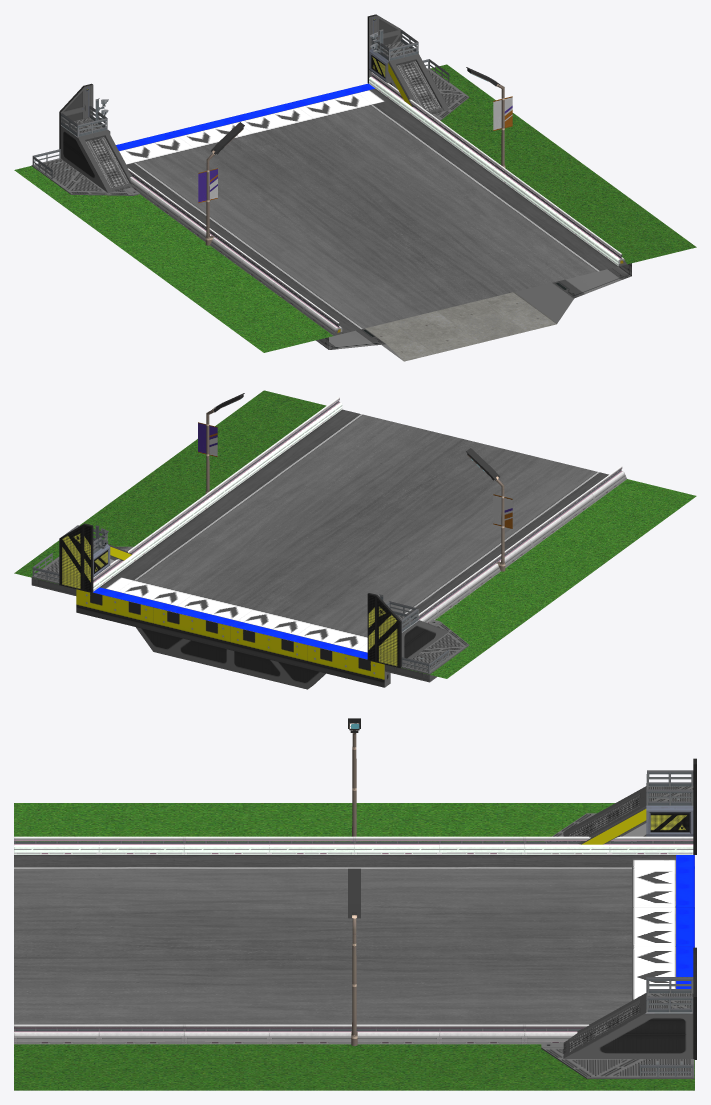
Rendered from T1 - Landing Ground.fbx.
3 renders of one model, top to bottom at view 1: azimuth 30°, elevation 25°; view 2: azimuth 150°, elevation 25°; view 3: azimuth 270°, elevation 25°, orthographic. The views are drawn at different scales.
Parts seen in each view (by area): view 1: standard_road, standard_ground_grass, gate, standard_bridge, flt_lines_landing, wall_straight_elevated, barrier_elevated2, pro_streetlight_banner_1, pro_streetlight_banner; view 2: standard_road, standard_ground_grass, frontplate_landing, gate, flt_lines_landing, barrier_elevated2, wall_straight_elevated, pro_streetlight_banner_1, pro_streetlight_banner; view 3: standard_road, standard_ground_grass, gate, barrier_elevated2, wall_straight_elevated, flt_lines_landing, pro_streetlight_banner, pro_streetlight_banner_1.
Boxes of the visible parts, box(x1,y1,x2,y2) form: standard_road: box(127, 88, 618, 333); standard_ground_grass: box(14, 64, 696, 352); gate: box(31, 14, 469, 195); standard_bridge: box(316, 263, 631, 361); flt_lines_landing: box(116, 83, 385, 164); wall_straight_elevated: box(128, 76, 623, 335); barrier_elevated2: box(131, 72, 626, 335); pro_streetlight_banner_1: box(198, 122, 244, 245); pro_streetlight_banner: box(466, 67, 512, 167); standard_road: box(100, 409, 608, 636); standard_ground_grass: box(14, 390, 696, 678); frontplate_landing: box(76, 589, 390, 689); gate: box(31, 523, 469, 682); flt_lines_landing: box(93, 577, 367, 659); barrier_elevated2: box(93, 397, 621, 618); wall_straight_elevated: box(93, 402, 626, 623); pro_streetlight_banner_1: box(466, 448, 512, 571); pro_streetlight_banner: box(198, 393, 244, 493); standard_road: box(14, 855, 675, 1028); standard_ground_grass: box(14, 803, 694, 1090); gate: box(541, 758, 696, 1078); barrier_elevated2: box(14, 836, 693, 1031); wall_straight_elevated: box(14, 837, 693, 1044); flt_lines_landing: box(632, 855, 694, 1000); pro_streetlight_banner: box(348, 868, 360, 1045); pro_streetlight_banner_1: box(348, 718, 360, 841).
Bounding box in the file's own units: 6400 × 2221 × 6419.
